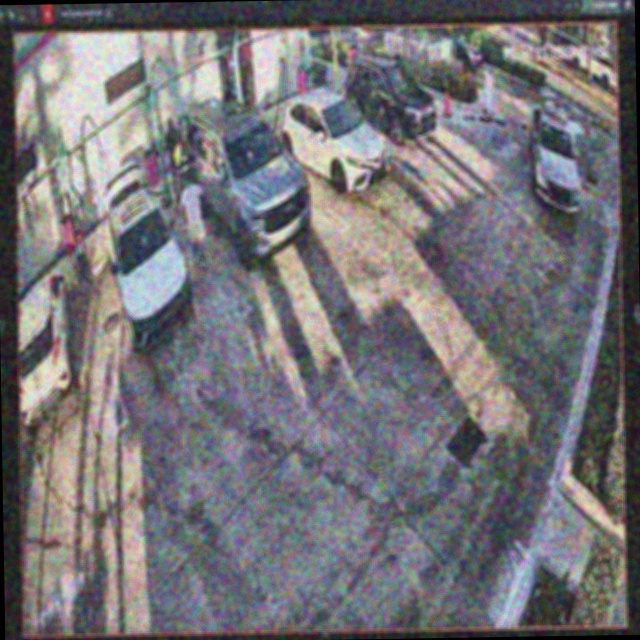Car: (183, 97, 312, 273), (107, 156, 197, 345), (275, 89, 389, 195)
